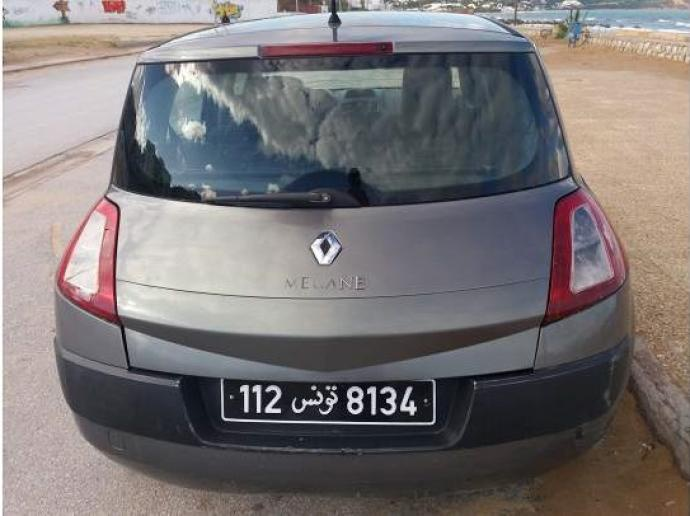LP: (219, 375, 440, 427)
